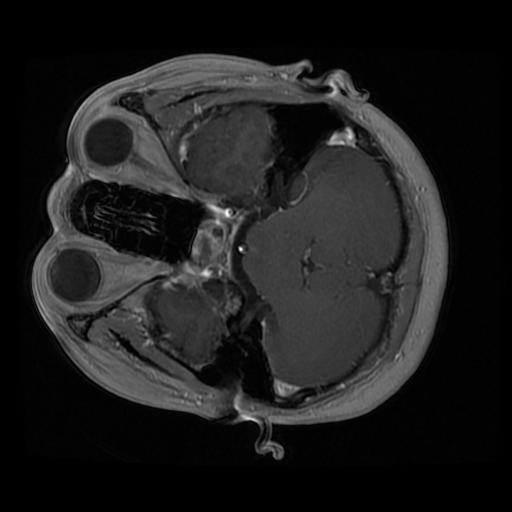pituitary tumour: (187, 210, 238, 283)
